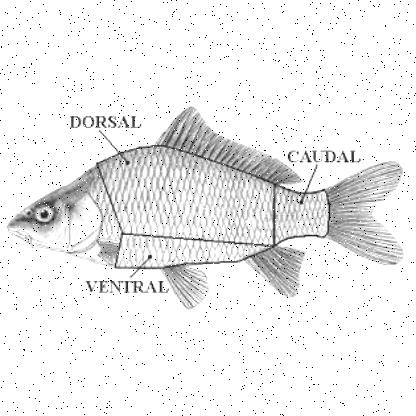ikan-mas: (7, 136, 396, 270)
